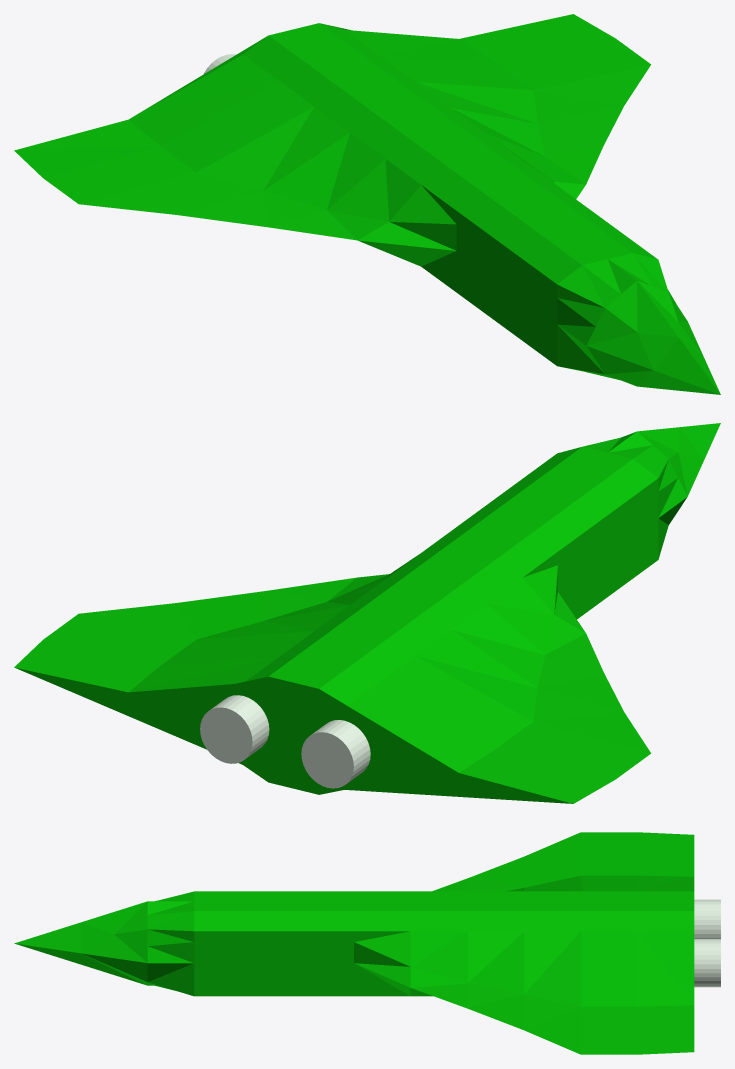
File: enemyJet.obj
The picture shows the model from 3 angles, top to bottom: view 1: azimuth 30°, elevation 25°; view 2: azimuth 150°, elevation 25°; view 3: azimuth 270°, elevation 25°; orthographic projection. The views are drawn at different scales.
Parts seen in each view (by area): view 1: Cube; view 2: Cube; view 3: Cube.
Part boxes in pixels (box(x1,y1,x2,y2)): Cube: box(14, 14, 720, 394); Cube: box(14, 423, 720, 803); Cube: box(14, 832, 720, 1054).
Bounding box in the file's own units: 11.31 × 2 × 15.18.
